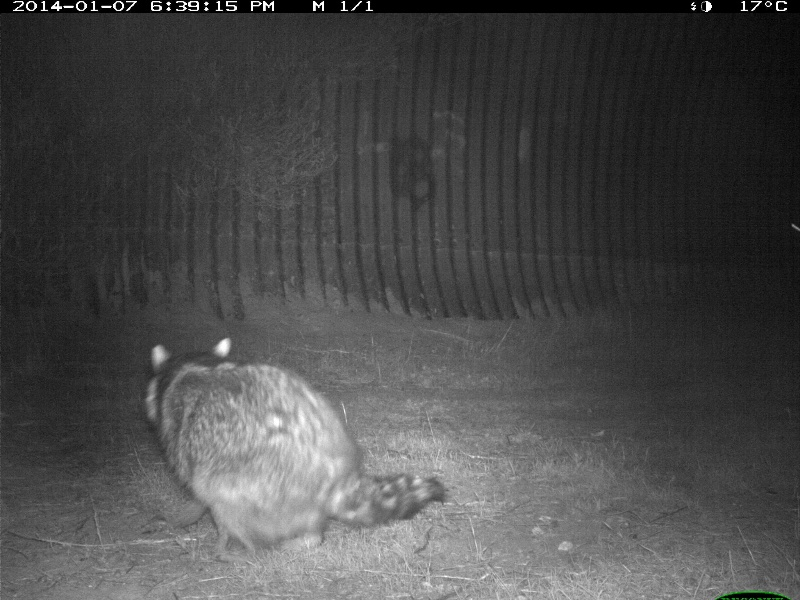raccoon: (145, 336, 449, 558)
